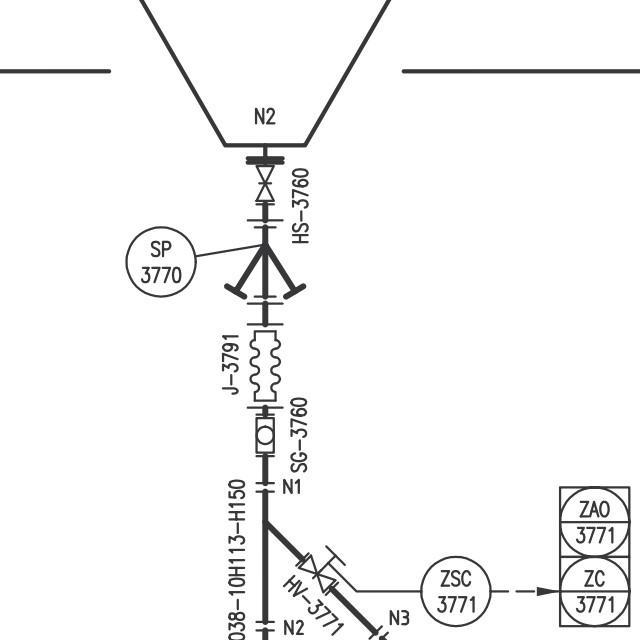CS: (246, 157, 291, 210)
EJ: (239, 319, 292, 413)
HVWT: (295, 539, 348, 600)
SG: (246, 410, 283, 461)
